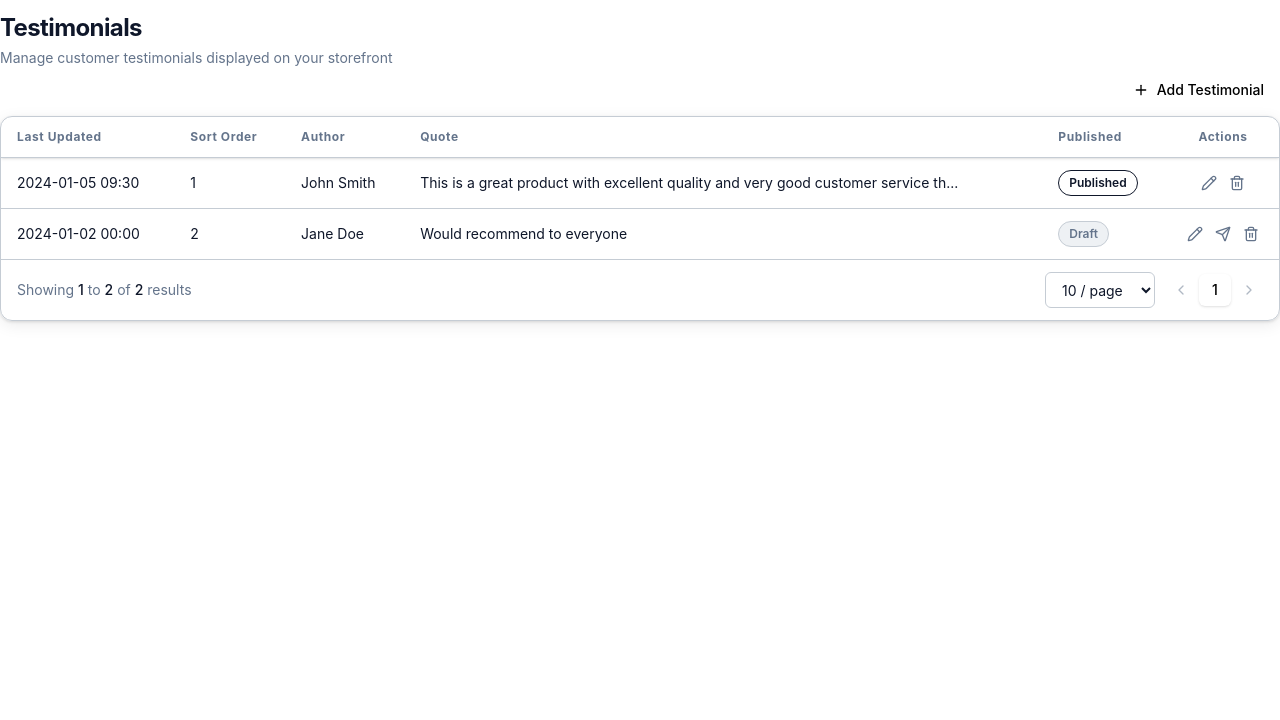
TestimonialsPage › form validation › form rejects blank quote
The image size is (1280, 720).
// Open the create form
Click the button "Add Testimonial" at point(1198, 90), box [1117, 80, 1279, 100]
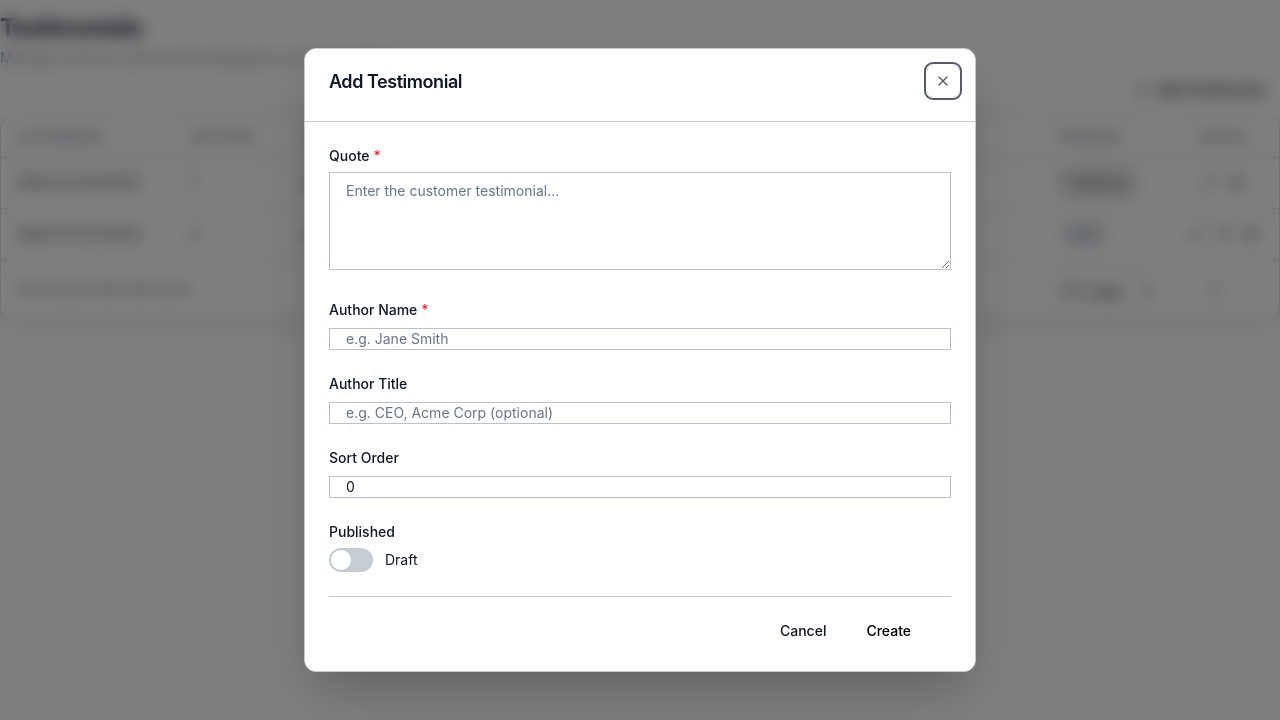
// Fill authorName but leave quote blank
Type "Test Author" into the field labelled "Author Name*" at point(640, 339), box [329, 328, 951, 350]
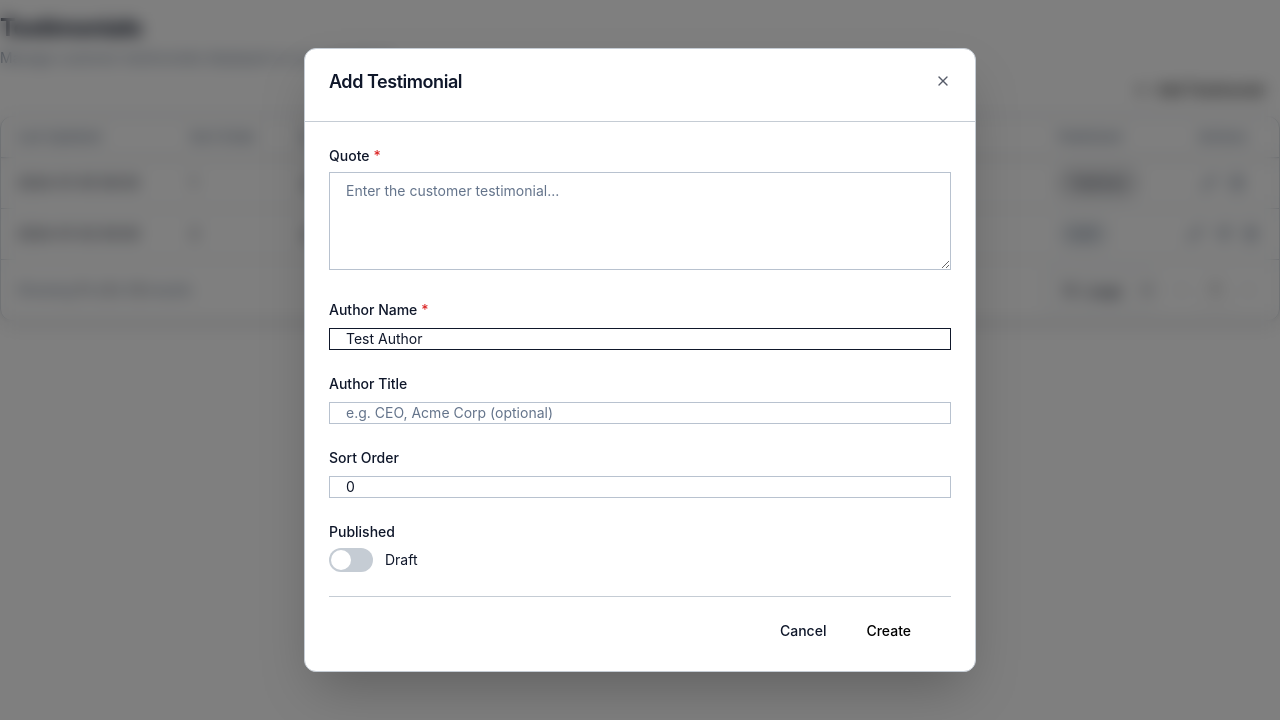
// Submit the form
Click the button "Create" at point(889, 631), box [850, 621, 927, 641]
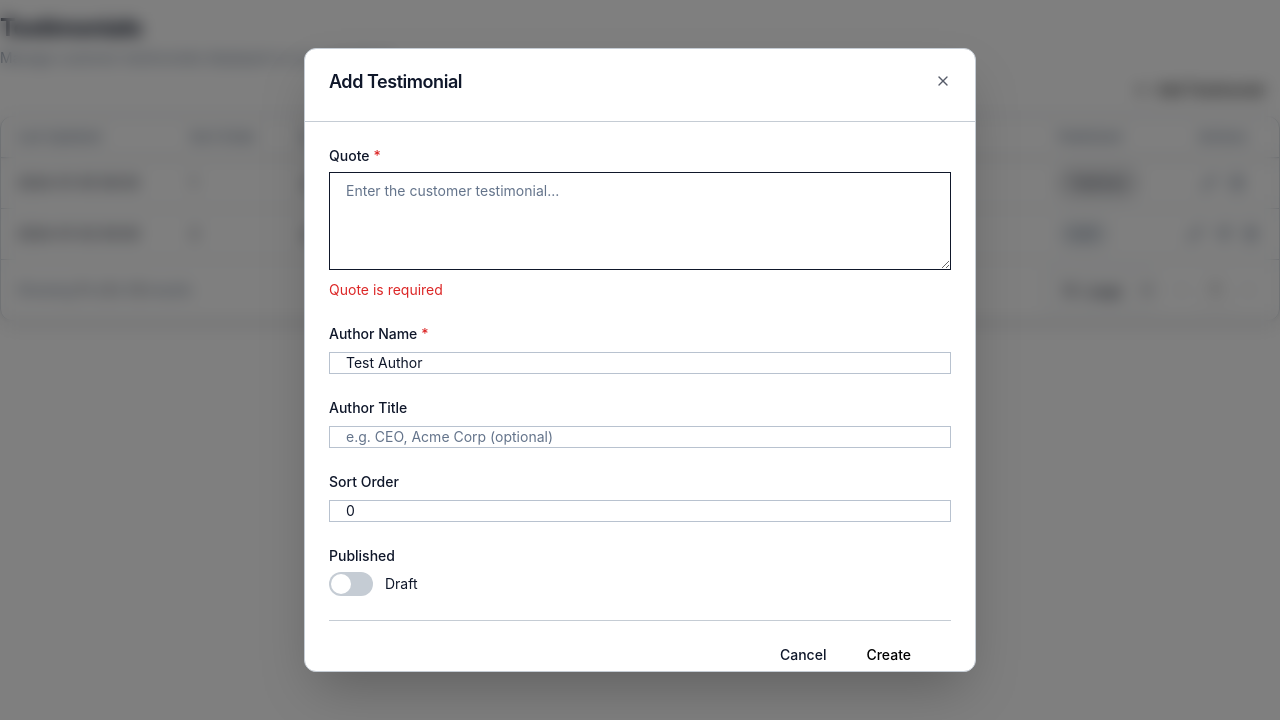
Now the text "Quote is required" is shown, box [329, 281, 443, 298]
